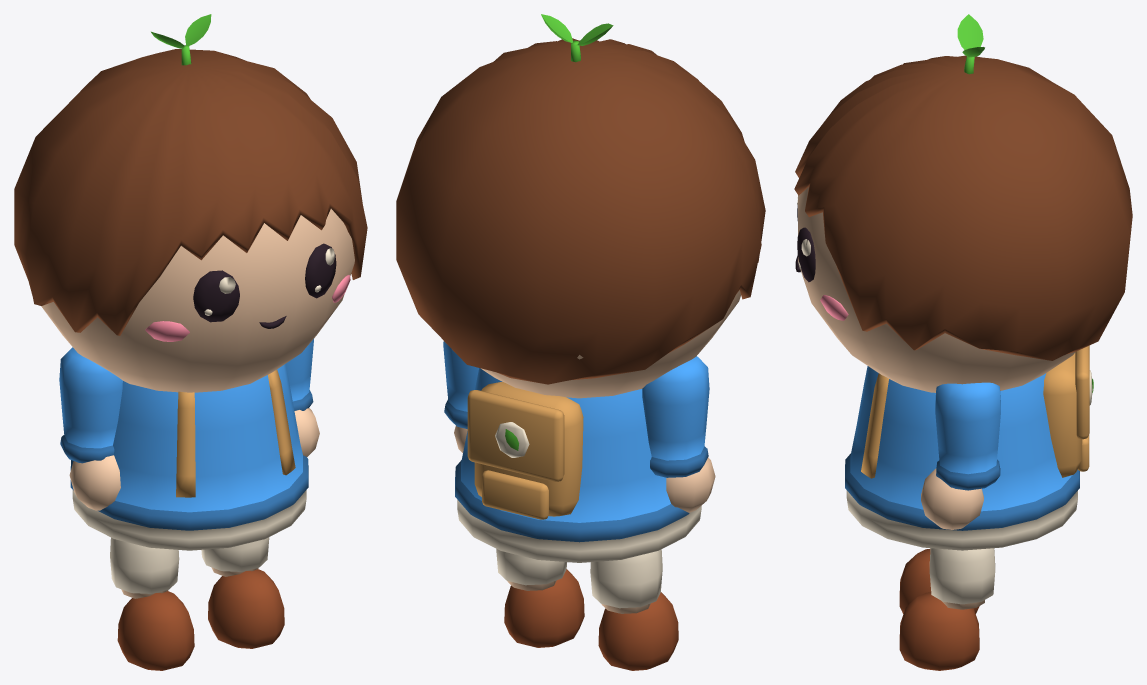
File: hero-man.glb
3 views of the same model, side by side, from view 1: azimuth 30°, elevation 25°; view 2: azimuth 150°, elevation 25°; view 3: azimuth 270°, elevation 25° (orthographic). The views are drawn at different scales.
Visible parts, largest first — view 1: head, body, leg-left, arm-left, leg-right, arm-right, head-leaf; view 2: head, body, arm-left, leg-left, leg-right, arm-right, head-leaf; view 3: head, body, arm-right, leg-right, leg-left, head-leaf.
Boxes of the visible parts, x1,y1,x2,y2 form: head: (14, 49, 367, 392); body: (70, 364, 308, 550); leg-left: (110, 537, 194, 670); arm-left: (59, 347, 122, 510); leg-right: (201, 537, 284, 648); arm-right: (285, 339, 319, 456); head-leaf: (151, 14, 211, 65); head: (396, 38, 765, 398); body: (455, 368, 701, 562); arm-left: (642, 356, 715, 512); leg-left: (590, 549, 678, 670); leg-right: (496, 549, 584, 647); arm-right: (443, 341, 478, 452); head-leaf: (541, 14, 613, 62); head: (794, 55, 1132, 392); body: (845, 345, 1093, 550); arm-right: (921, 382, 1000, 529); leg-right: (899, 548, 995, 670); leg-left: (899, 549, 979, 613); head-leaf: (957, 14, 984, 74).
Size of the model in its own units: 1.23 by 2.35 by 1.18.
